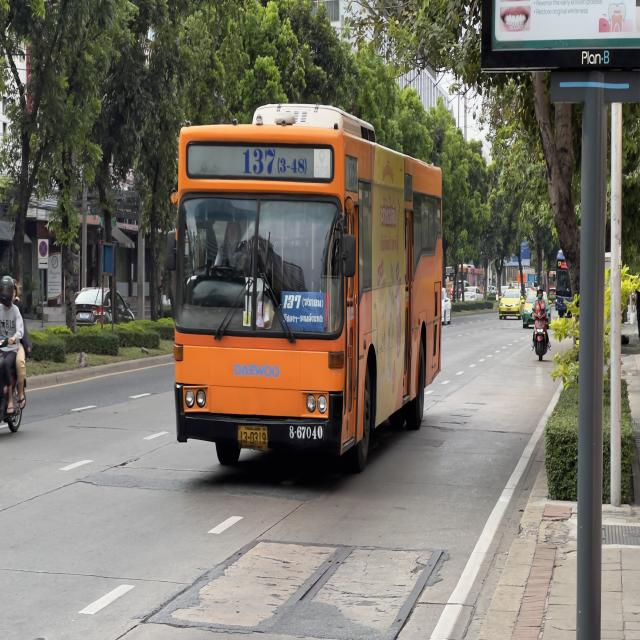BMTA-bus: (171, 106, 448, 471)
Bus-Line-Number: (238, 142, 311, 178)
Destination-Sign-Normal: (281, 287, 327, 337)
TSB-Bus: (552, 249, 576, 320)
